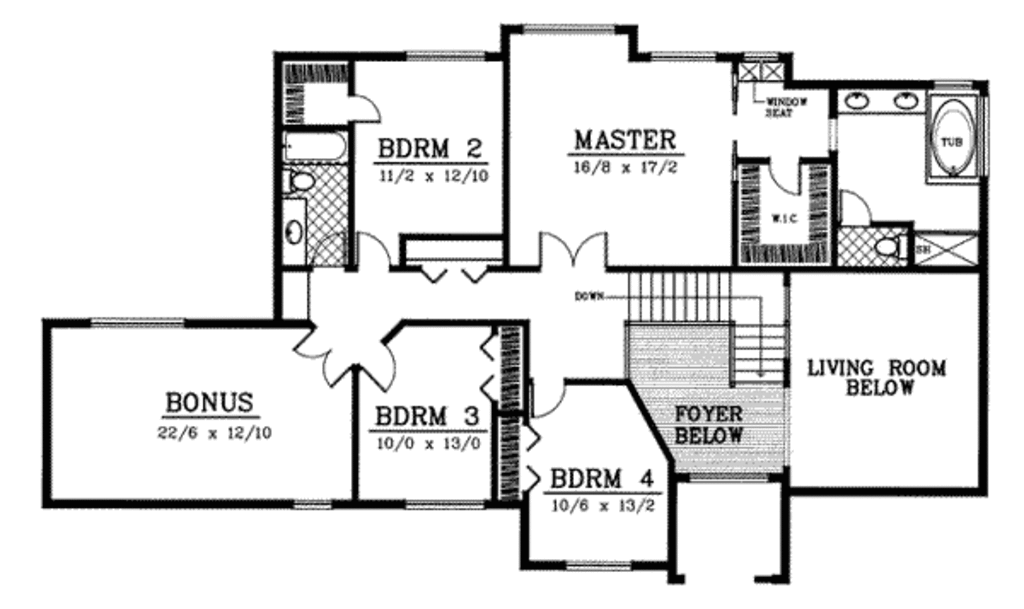door: (529, 224, 610, 272), (293, 328, 352, 388), (525, 372, 574, 421), (359, 345, 402, 400), (835, 185, 879, 227), (354, 226, 396, 268), (768, 156, 805, 200), (343, 89, 383, 126)
large_sink: (274, 165, 322, 196), (870, 228, 910, 262)
small_sink: (273, 192, 315, 267), (834, 85, 929, 113)
stairs: (616, 267, 792, 387)
tub: (925, 74, 996, 182), (281, 129, 353, 162)
window: (78, 307, 191, 336), (524, 17, 616, 40), (404, 47, 488, 65), (405, 495, 490, 512), (564, 556, 635, 570), (297, 499, 337, 512)
